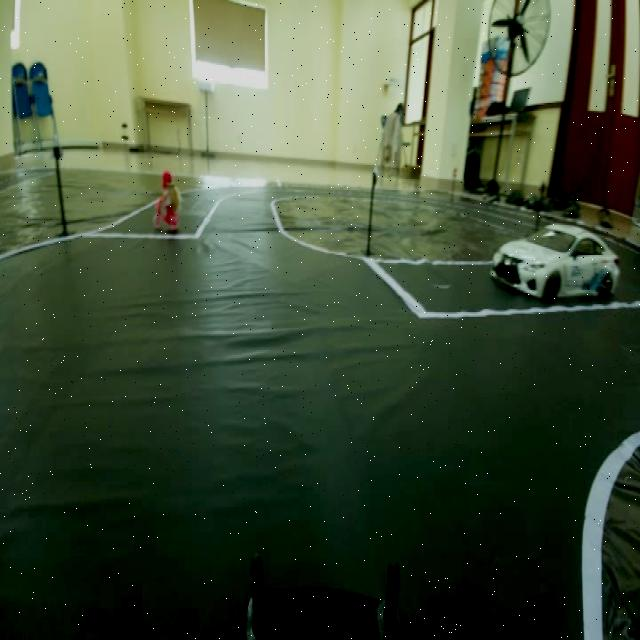car: (492, 223, 626, 301)
